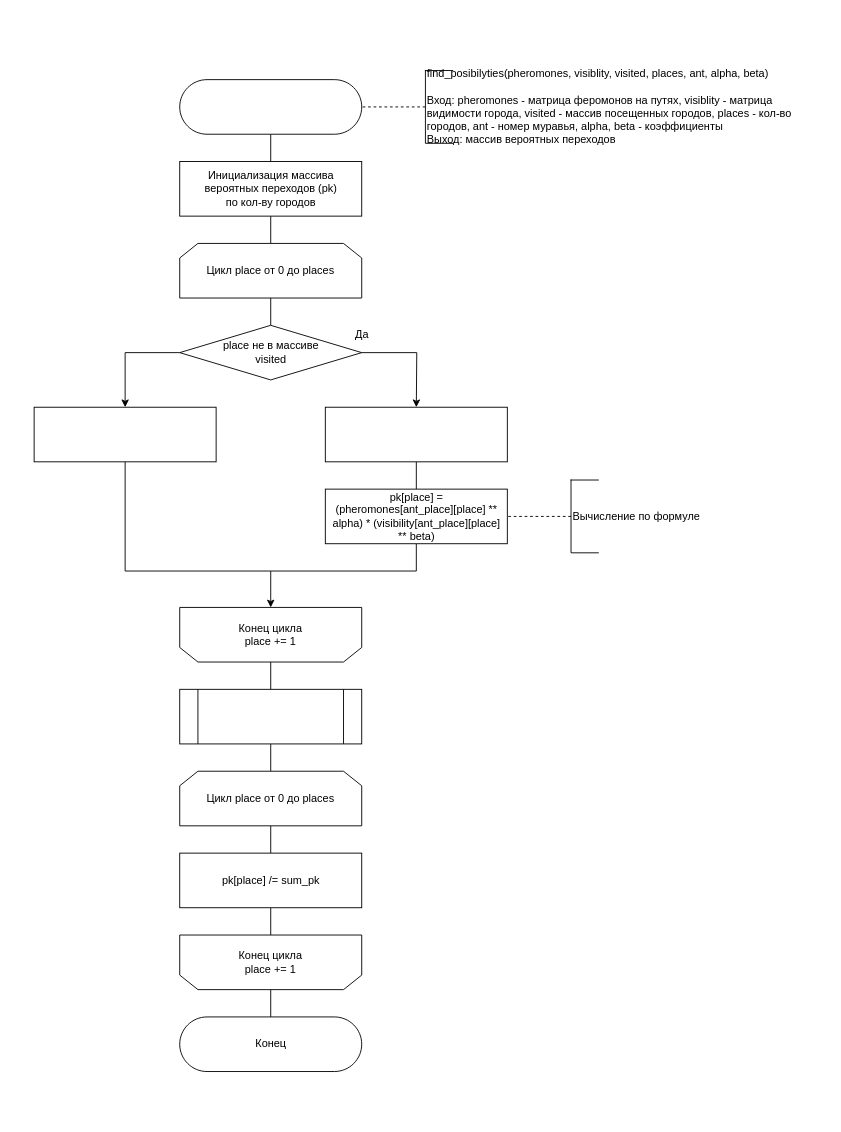
Some shapes in this 841 by 1132 pixel diagram are drawn without their labels. The shapes that lost their labels are listed below. From the top down, each one's centre as x and y in pixels, then its label:
At point (270, 106): "Начало".
At point (124, 434): "pk[place] = 0".
At point (415, 434): "ant_place = visited[-1]".
At point (270, 716): "Вычислить сумму элементов массива pk (sum_pk)".
